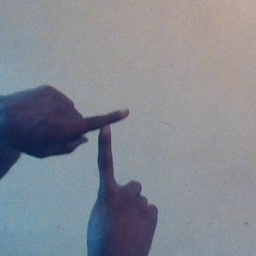T: (49, 93, 151, 203)
